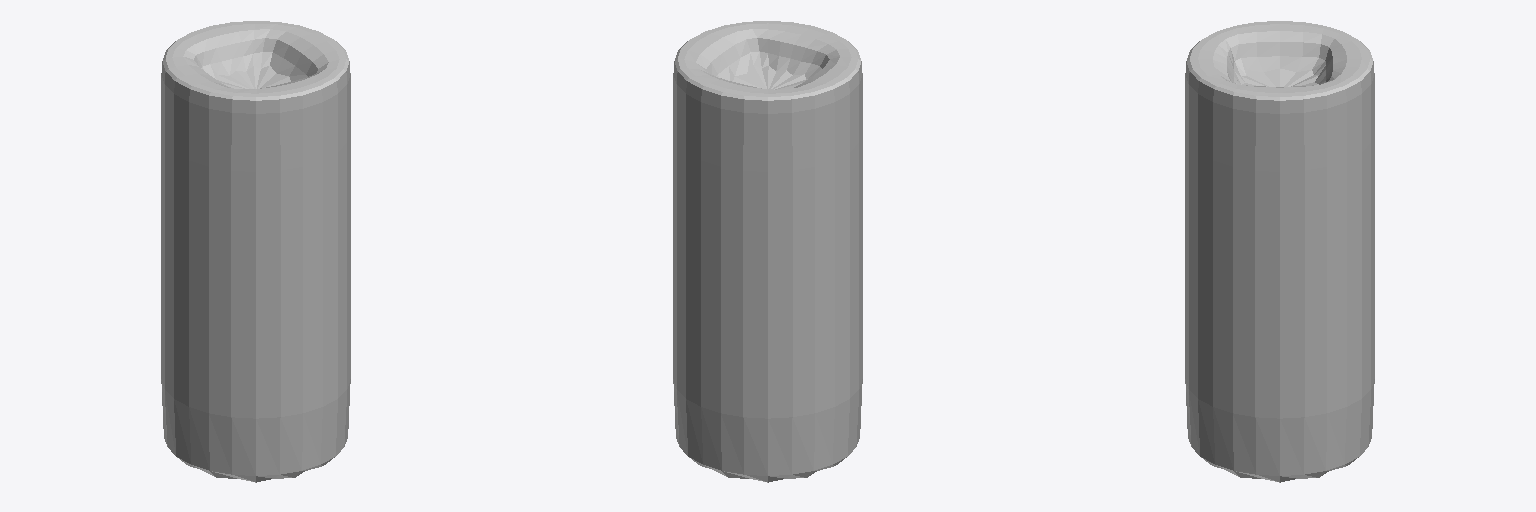
The model's file is Pillarstone4.obj.
3 renders of one model, left to right at view 1: azimuth 30°, elevation 25°; view 2: azimuth 150°, elevation 25°; view 3: azimuth 270°, elevation 25°, orthographic.
Visible parts, largest first — view 1: Cube.006; view 2: Cube.006; view 3: Cube.006.
Part boxes in pixels (x1,y1,x2,y2): Cube.006: (161, 21, 350, 482); Cube.006: (673, 21, 862, 482); Cube.006: (1185, 21, 1374, 482).
Bounding box in the file's own units: 0.8684 × 2 × 0.8684.